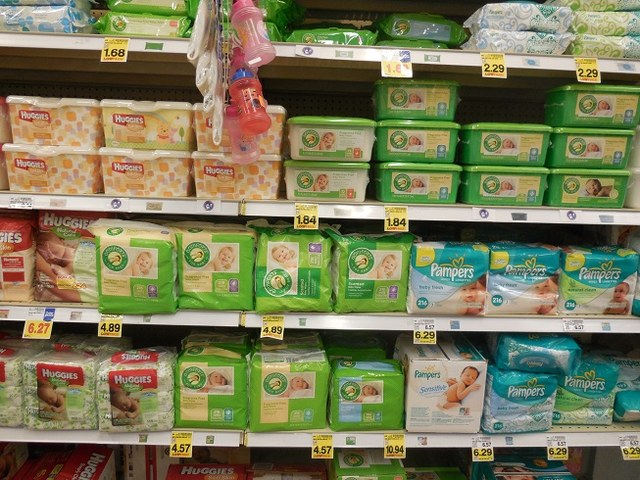Pampers Baby Wipes: (32, 24, 608, 456)
